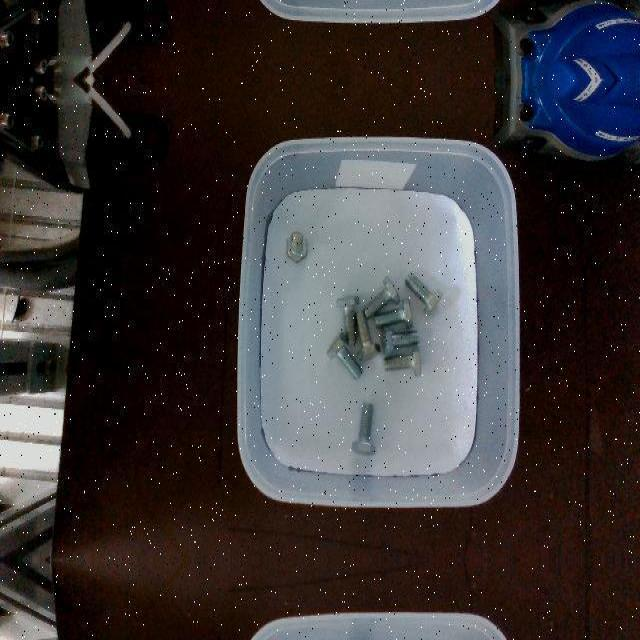screw: (327, 331, 363, 381), (404, 272, 442, 318), (363, 276, 400, 318), (354, 309, 380, 359), (351, 401, 375, 455), (381, 324, 421, 356), (383, 344, 422, 376), (335, 295, 359, 345), (375, 298, 413, 328), (286, 231, 307, 263)
